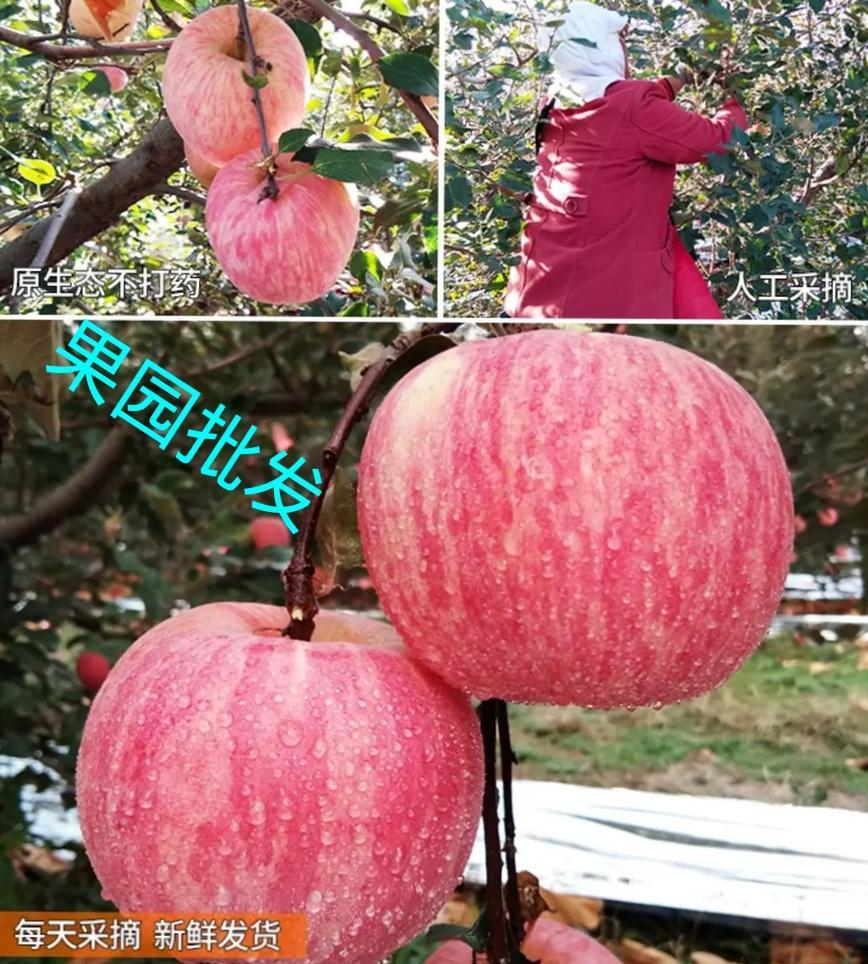apple: (359, 329, 795, 711), (76, 601, 485, 961), (201, 153, 358, 306), (164, 3, 308, 163)
